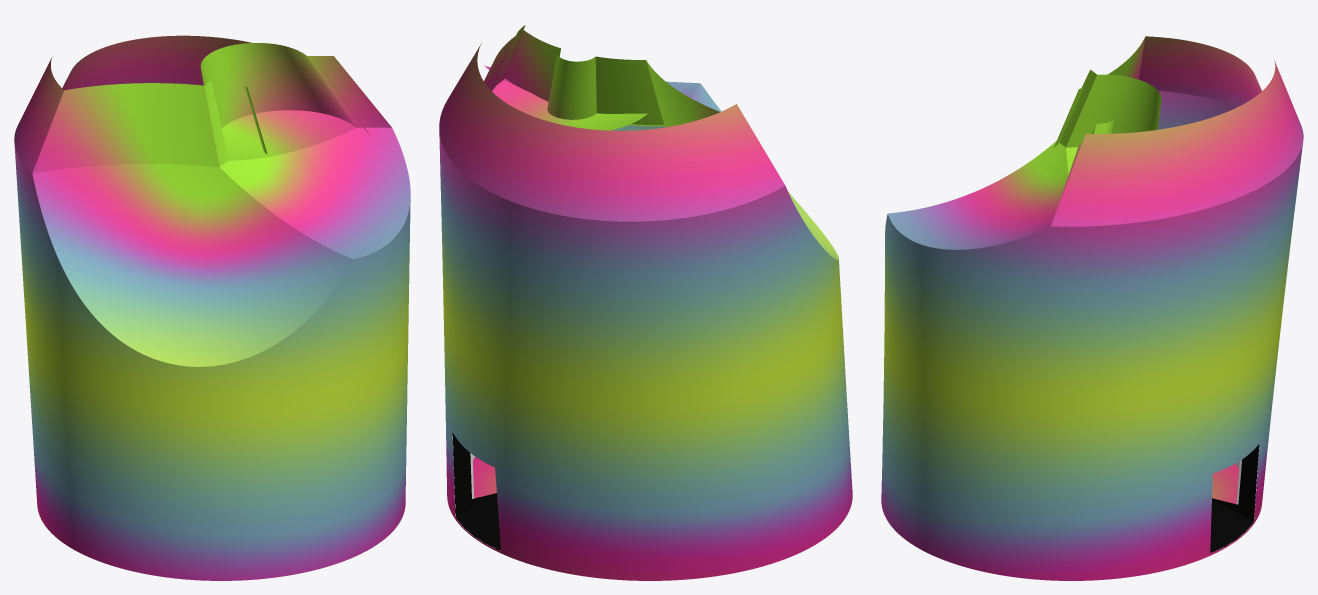
3 renders of one model, left to right at view 1: azimuth 30°, elevation 25°; view 2: azimuth 150°, elevation 25°; view 3: azimuth 270°, elevation 25°, orthographic. The views are drawn at different scales.
Visible parts, largest first — view 1: Solids, Solids_2; view 2: Solids, Solids_2, Frames; view 3: Solids, Solids_2, Frames.
Part boxes in pixels (x1,y1,x2,y2): Solids: (14, 43, 410, 580); Solids_2: (62, 35, 370, 154); Solids: (439, 25, 852, 580); Solids_2: (473, 30, 719, 498); Frames: (452, 432, 500, 550); Solids: (881, 60, 1303, 580); Solids_2: (1053, 36, 1261, 503); Frames: (1210, 444, 1259, 552).
Size of the model in its own units: 17.7 by 21.77 by 19.51.
3 materials, 3 textured.
